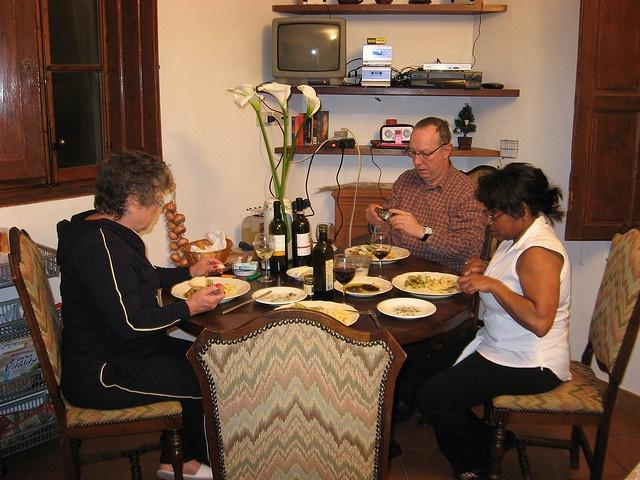Kursi: (7, 225, 181, 479), (482, 223, 639, 477)
